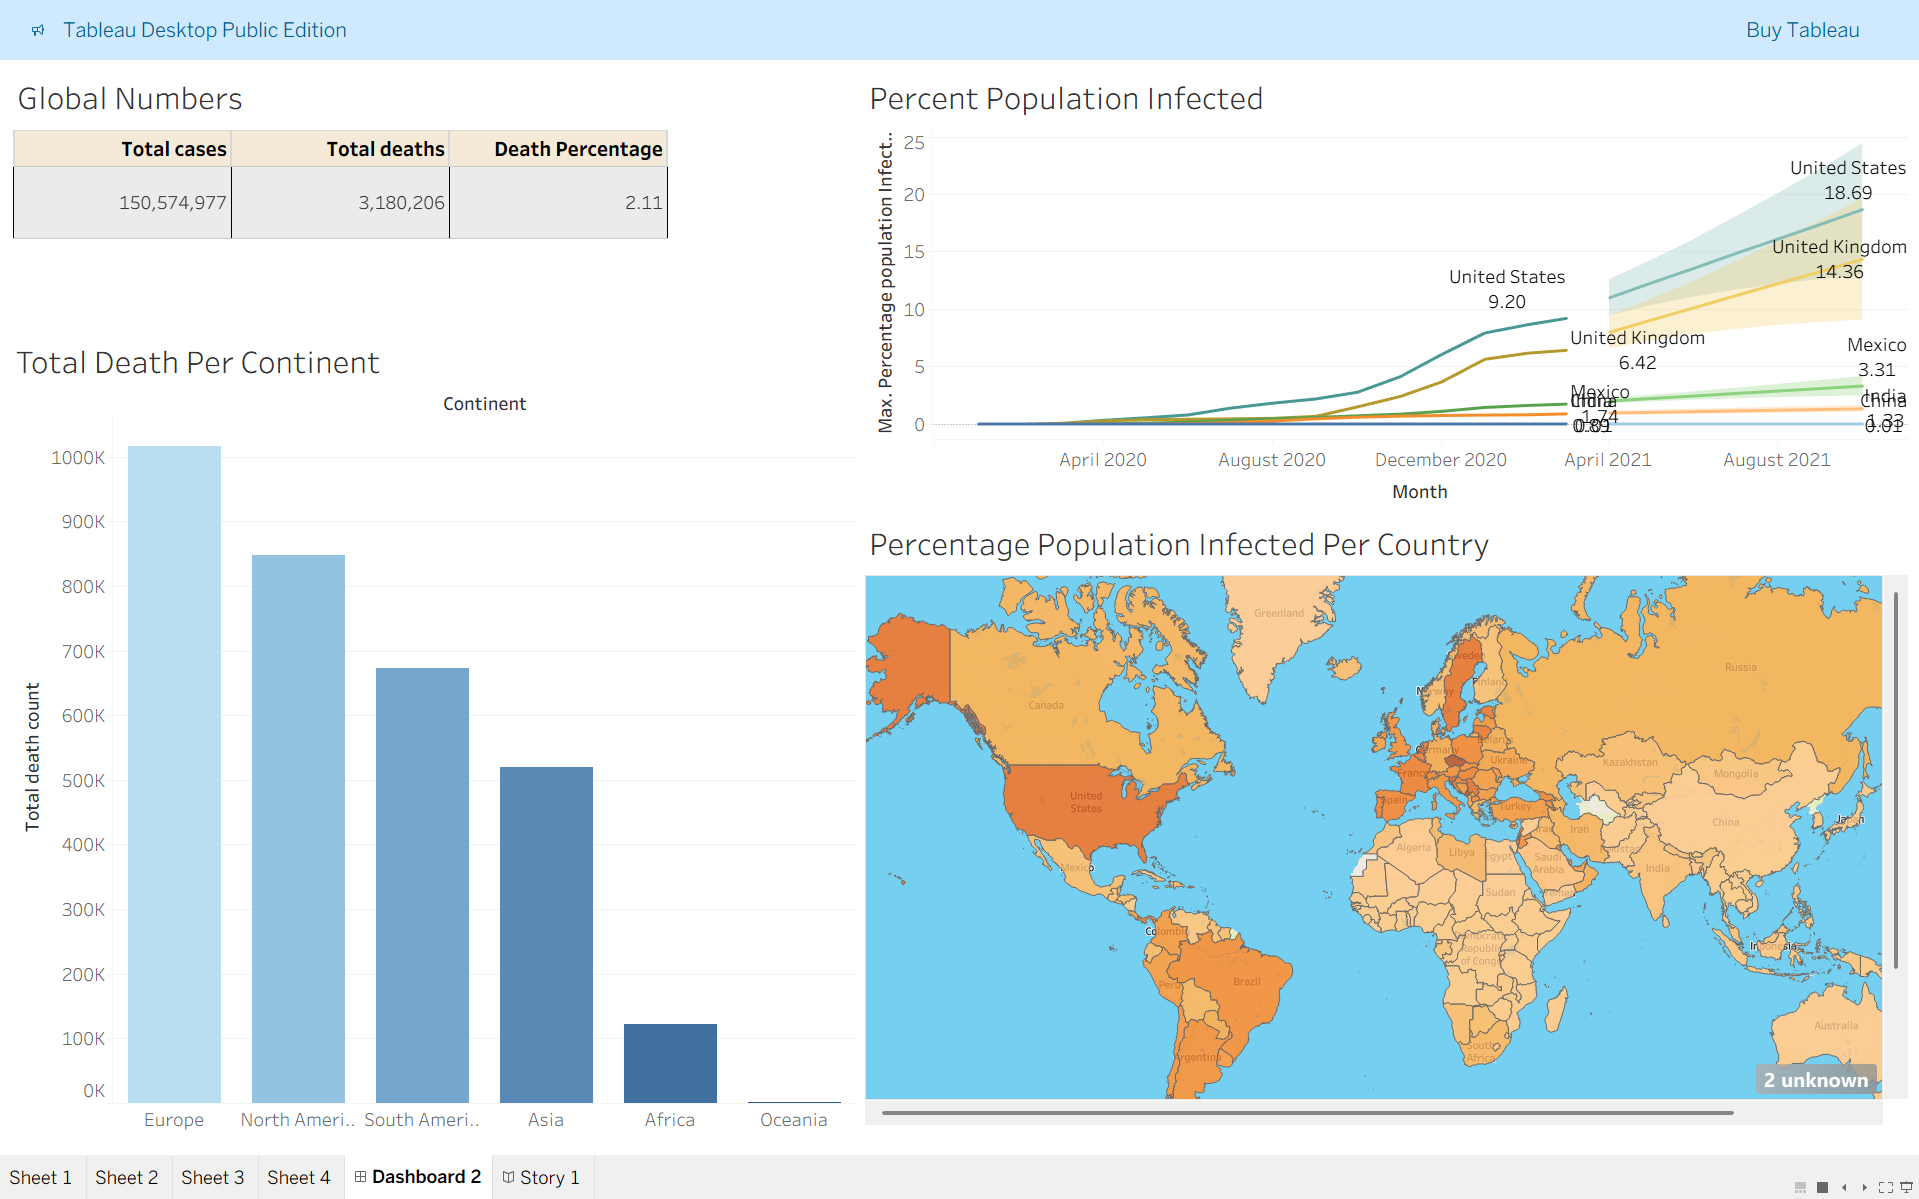

The page's visual inventory and layout, read from the dashboard file:
{"tool":"tableau","page":{"name":"Dashboard 2","canvas":[1000,1000],"units":"permille","ordinal":0},"visuals":[{"type":"worksheet","title":"Sheet 1","mark":"Automatic","box":[4.8,9.2,443.9,240.2]},{"type":"worksheet","title":"Sheet 4","mark":"Automatic","rows":["Percentage_population_Infected"],"cols":["date"],"box":[448.7,9.2,546.5,405.3]},{"type":"worksheet","title":"Sheet 2","mark":"Automatic","rows":["Total_death_count"],"cols":["continent"],"box":[4.8,249.4,443.9,741.3]},{"type":"worksheet","title":"Sheet 3","mark":"Automatic","box":[448.7,414.6,546.5,576.2]}]}

Visuals, with their boxes on the dashboard's canvas, which has no fixed pixel size, in thousandths of its width and height (x1, y1, x2, y2). These are canvas units, not pixel positions in the 1919x1199 screenshot, which may show the page scaled, cropped or inside an application window:
"Sheet 1" worksheet: (5,9,449,249)
"Sheet 4" worksheet: (449,9,995,414)
"Sheet 2" worksheet: (5,249,449,991)
"Sheet 3" worksheet: (449,415,995,991)
